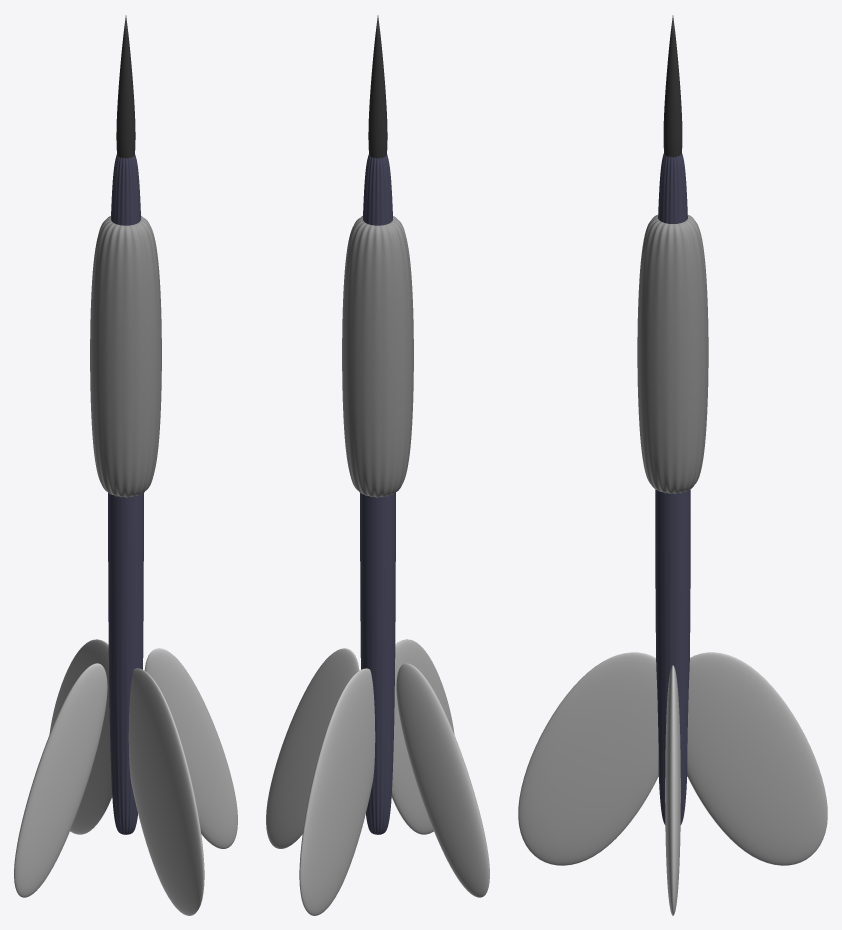
File: darts.fbx
3 views of the same model, side by side, from view 1: azimuth 30°, elevation 25°; view 2: azimuth 150°, elevation 25°; view 3: azimuth 270°, elevation 25° (orthographic).
Parts seen in each view (by area): view 1: metal1, pCube3, body1, pCube2, pCube1, pCube4, head1; view 2: metal1, pCube4, body1, pCube2, pCube1, pCube3, head1; view 3: pCube3, pCube4, metal1, body1, pCube1, head1.
Part boxes in pixels (box(x1,y1,x2,y2)): metal1: box(90, 216, 161, 497); pCube3: box(128, 668, 204, 915); body1: box(108, 154, 143, 834); pCube2: box(14, 663, 107, 897); pCube1: box(144, 648, 237, 848); pCube4: box(49, 639, 112, 834); head1: box(116, 15, 135, 158); metal1: box(342, 216, 413, 497); pCube4: box(299, 668, 375, 915); body1: box(360, 154, 395, 834); pCube2: box(396, 663, 489, 897); pCube1: box(266, 648, 359, 848); pCube3: box(391, 639, 454, 834); head1: box(368, 15, 387, 158); pCube3: box(518, 652, 658, 865); pCube4: box(687, 652, 827, 865); metal1: box(637, 214, 708, 493); body1: box(655, 153, 690, 824); pCube1: box(665, 665, 680, 915); head1: box(663, 15, 682, 157).
Bounding box in the file's own units: 3.43 × 12.59 × 4.14.
